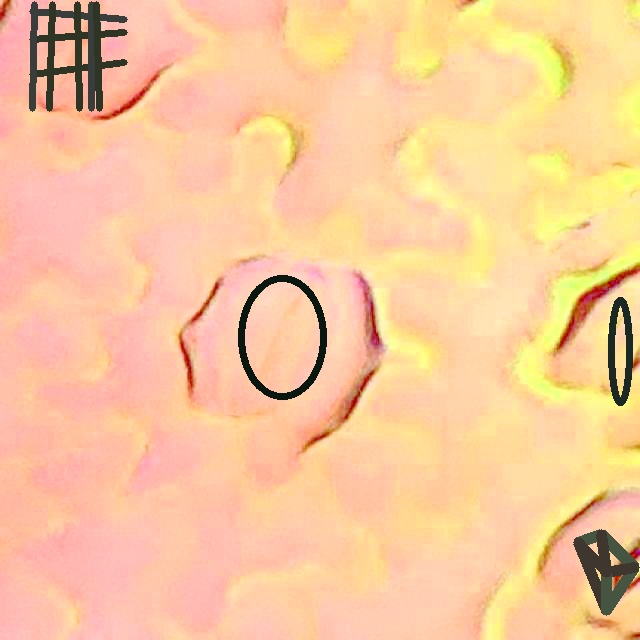open: (237, 274, 328, 400), (29, 2, 126, 111), (574, 530, 638, 615), (608, 296, 632, 405)
